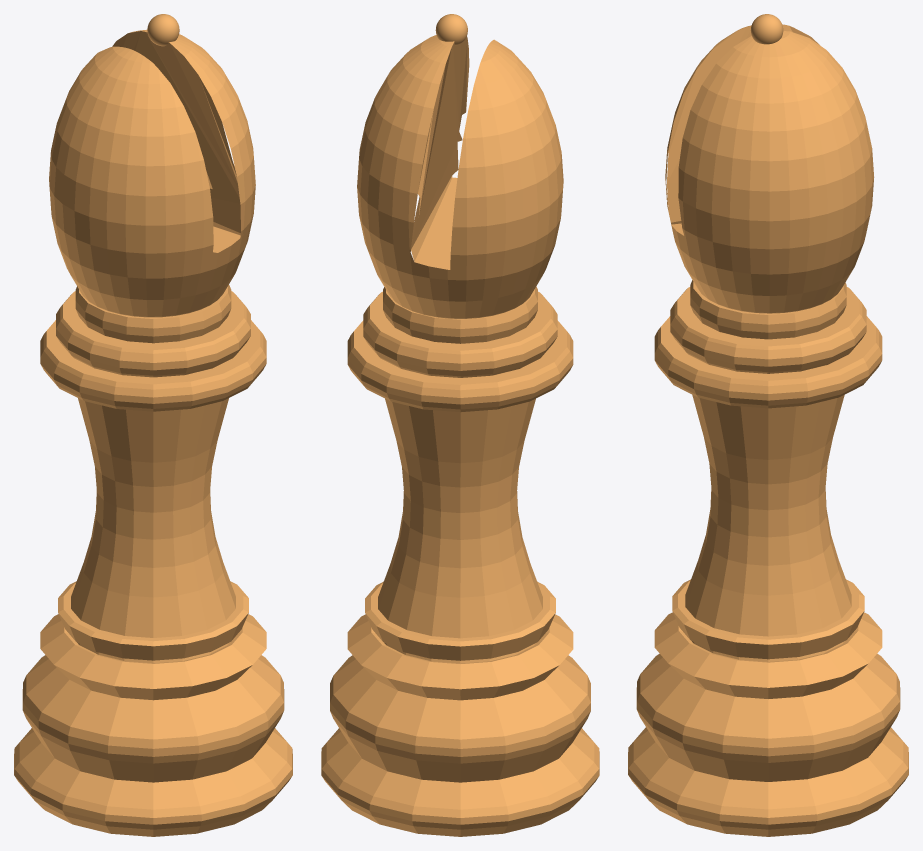
File: fc264154-6beb-47af-b1d9-bb6c9cdfcc51.glb
3 views of the same model, side by side, from view 1: azimuth 30°, elevation 25°; view 2: azimuth 150°, elevation 25°; view 3: azimuth 270°, elevation 25° (orthographic).
Visible parts, largest first — view 1: Cylinder001, Sphere001, Sphere002; view 2: Cylinder001, Sphere001, Sphere002; view 3: Cylinder001, Sphere001, Sphere002.
Boxes of the visible parts, left/top/right/bottom form: Cylinder001: left=14, top=285, right=292, bottom=836; Sphere001: left=49, top=29, right=255, bottom=317; Sphere002: left=147, top=14, right=179, bottom=46; Cylinder001: left=321, top=286, right=599, bottom=836; Sphere001: left=357, top=35, right=563, bottom=318; Sphere002: left=435, top=14, right=467, bottom=45; Cylinder001: left=628, top=280, right=908, bottom=836; Sphere001: left=665, top=24, right=874, bottom=313; Sphere002: left=750, top=14, right=783, bottom=44.
Bounding box in the file's own units: 303148 × 906002 × 298542.
